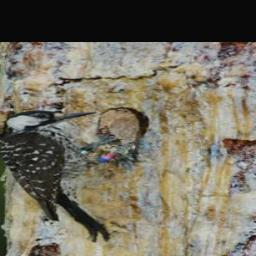Woodpecker: (0, 110, 136, 241)
